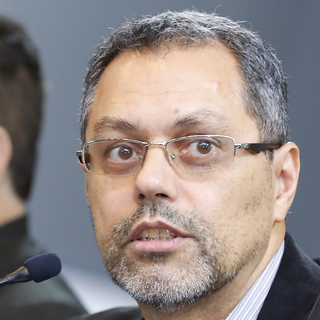eye: (175, 138, 228, 162), (100, 141, 144, 166)
